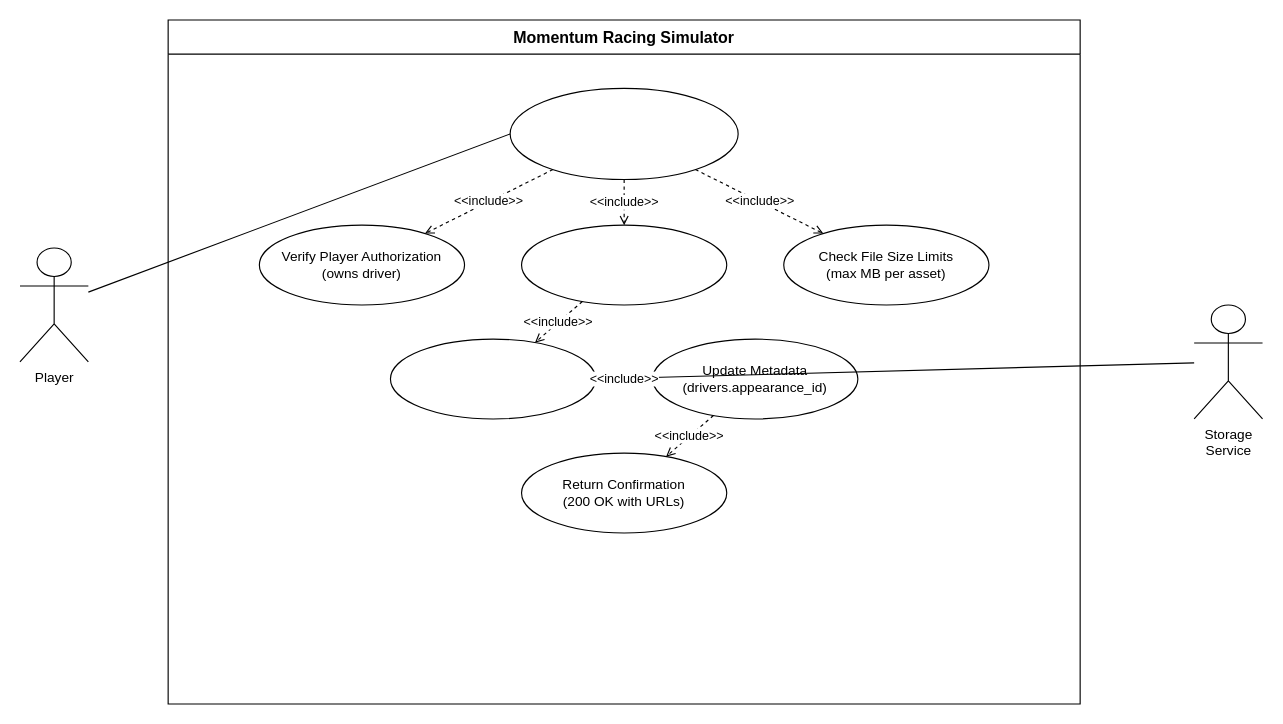
Image size: 1283x724. Some labels were removed from this diagram. The shapes that lost their labels are listed below. From the top down, each one's centre as x and y in pixels, then its label:
(x=623, y=133): Update Driver Appearance
(x=623, y=264): Validate Asset Files (helmet, livery formats)
(x=492, y=378): Upload to Storage Service (S3 or local)
